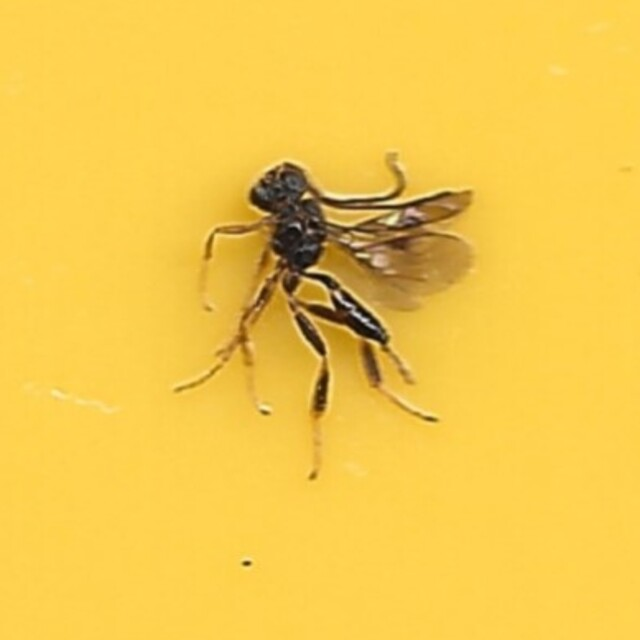Hymenoptera: (165, 152, 475, 488)
